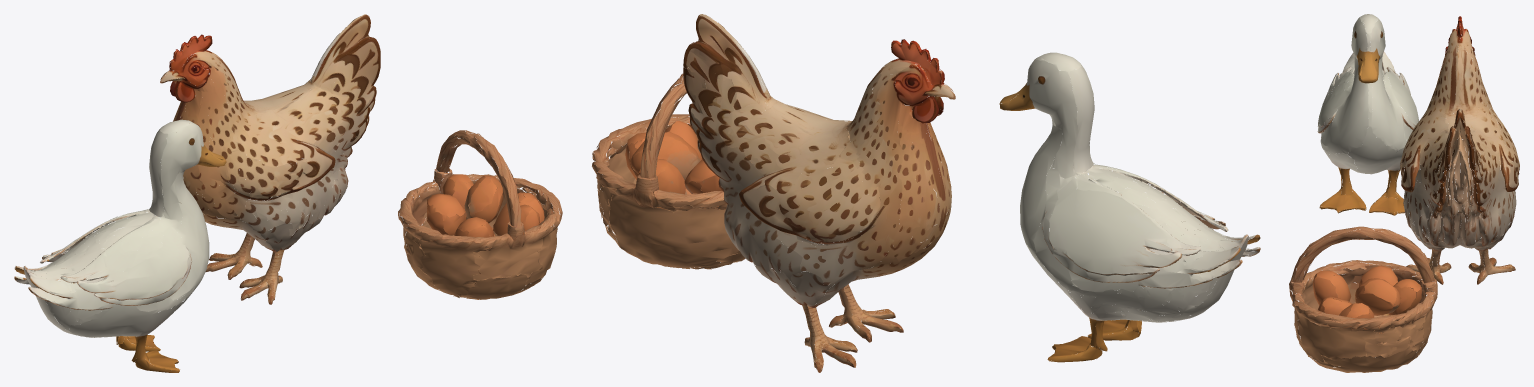
Rendered from animal_poultry.glb.
3 views of the same model, side by side, from view 1: azimuth 30°, elevation 25°; view 2: azimuth 150°, elevation 25°; view 3: azimuth 270°, elevation 25° (orthographic). The views are drawn at different scales.
Visible parts, largest first — view 1: animal_poultry; view 2: animal_poultry; view 3: animal_poultry.
Part boxes in pixels (box(x1,y1,x2,y2)): animal_poultry: box(14, 14, 562, 372); animal_poultry: box(592, 14, 1260, 372); animal_poultry: box(1289, 14, 1519, 372).
Bounding box in the file's own units: 1.03 × 0.48 × 0.43.
Materials: 3 (3 with a texture image).
